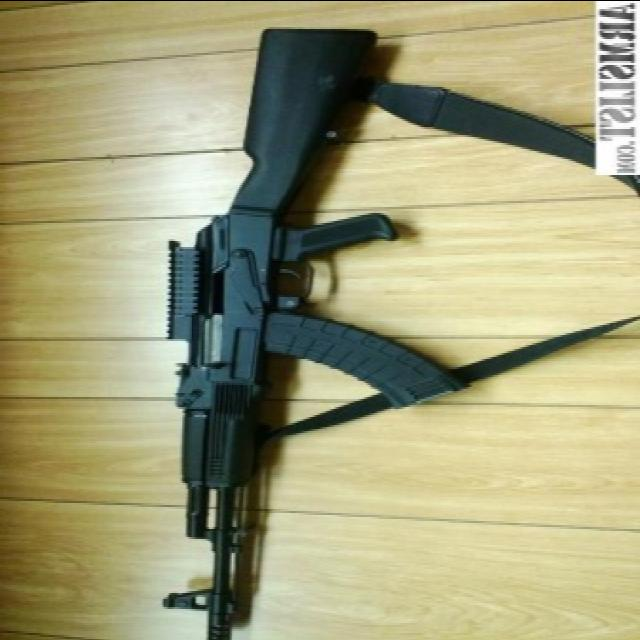rifle: (141, 11, 447, 639)
